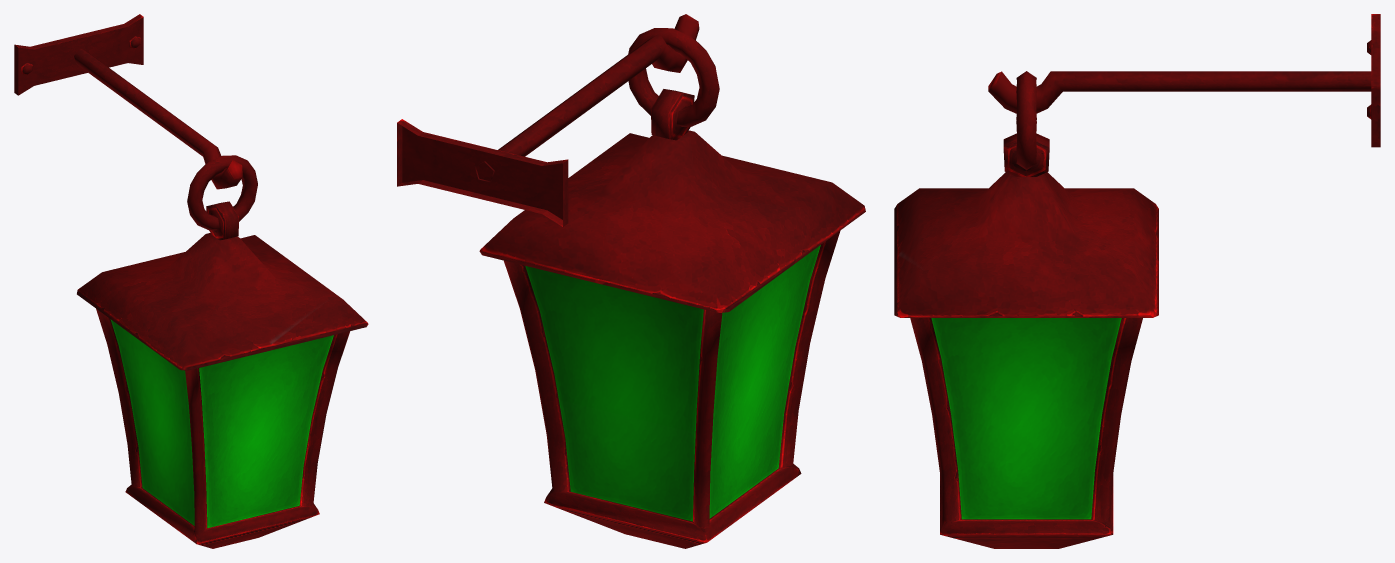
Rendered from Lantern02.fbx.
3 renders of one model, left to right at view 1: azimuth 30°, elevation 25°; view 2: azimuth 150°, elevation 25°; view 3: azimuth 270°, elevation 25°, orthographic. The views are drawn at different scales.
Visible parts, largest first — view 1: Lantern02_LOD0; view 2: Lantern02_LOD0; view 3: Lantern02_LOD0.
Part boxes in pixels (left/top/right/bottom): Lantern02_LOD0: left=14, top=14, right=368, bottom=548; Lantern02_LOD0: left=397, top=14, right=865, bottom=548; Lantern02_LOD0: left=894, top=14, right=1380, bottom=548.
Size of what is drawn, in the model's own units: 0.1754 by 0.3539 by 0.3222.
